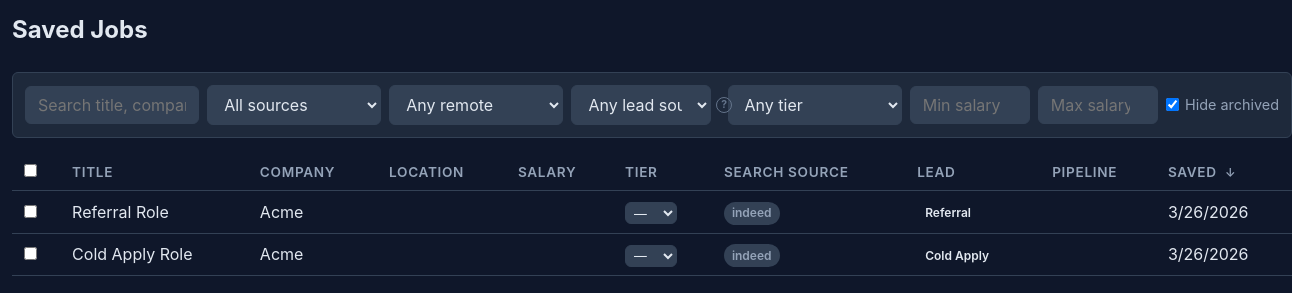
Postings Page — lead_source filter select › shows all postings when lead source filter is cleared
Expected: the text "Referral Role" is shown, [60, 191, 248, 233]
Select "Referral" in the 3rd dropdown at point(641, 105), box [571, 85, 711, 125]
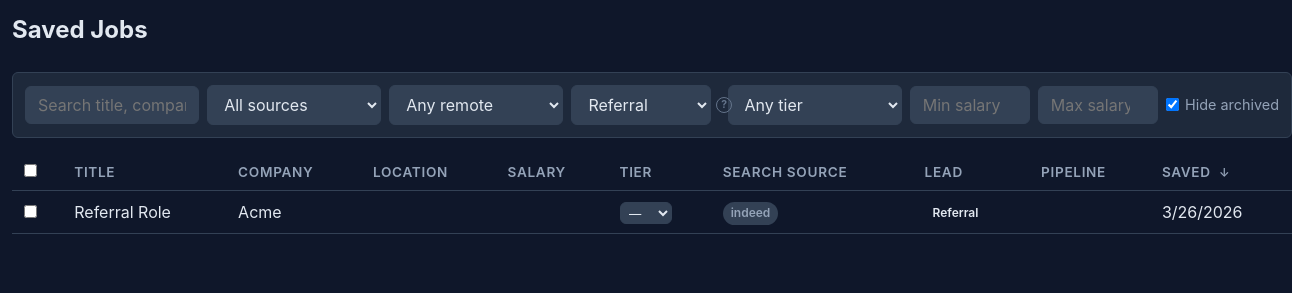
Result: the text "Cold Apply Role" is gone
Select "Any lead source" in the 3rd dropdown at point(641, 105), box [571, 85, 711, 125]
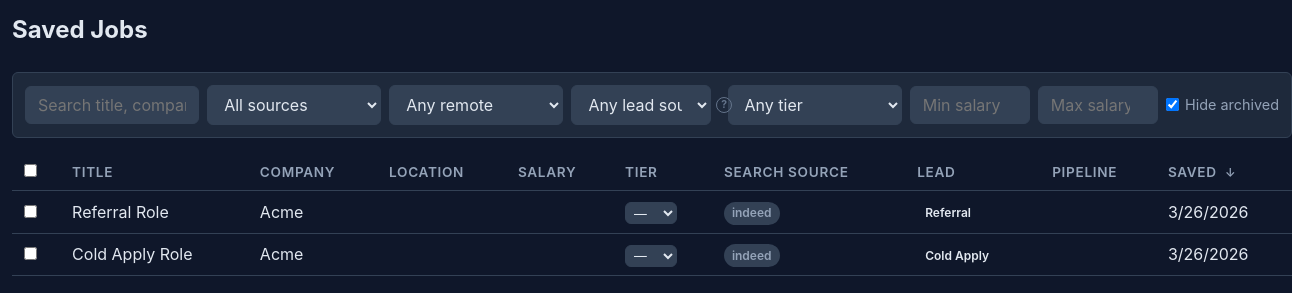
Expected: the text "Referral Role" is shown, [60, 191, 248, 233]
Result: the text "Cold Apply Role" is shown at [60, 233, 248, 276]
